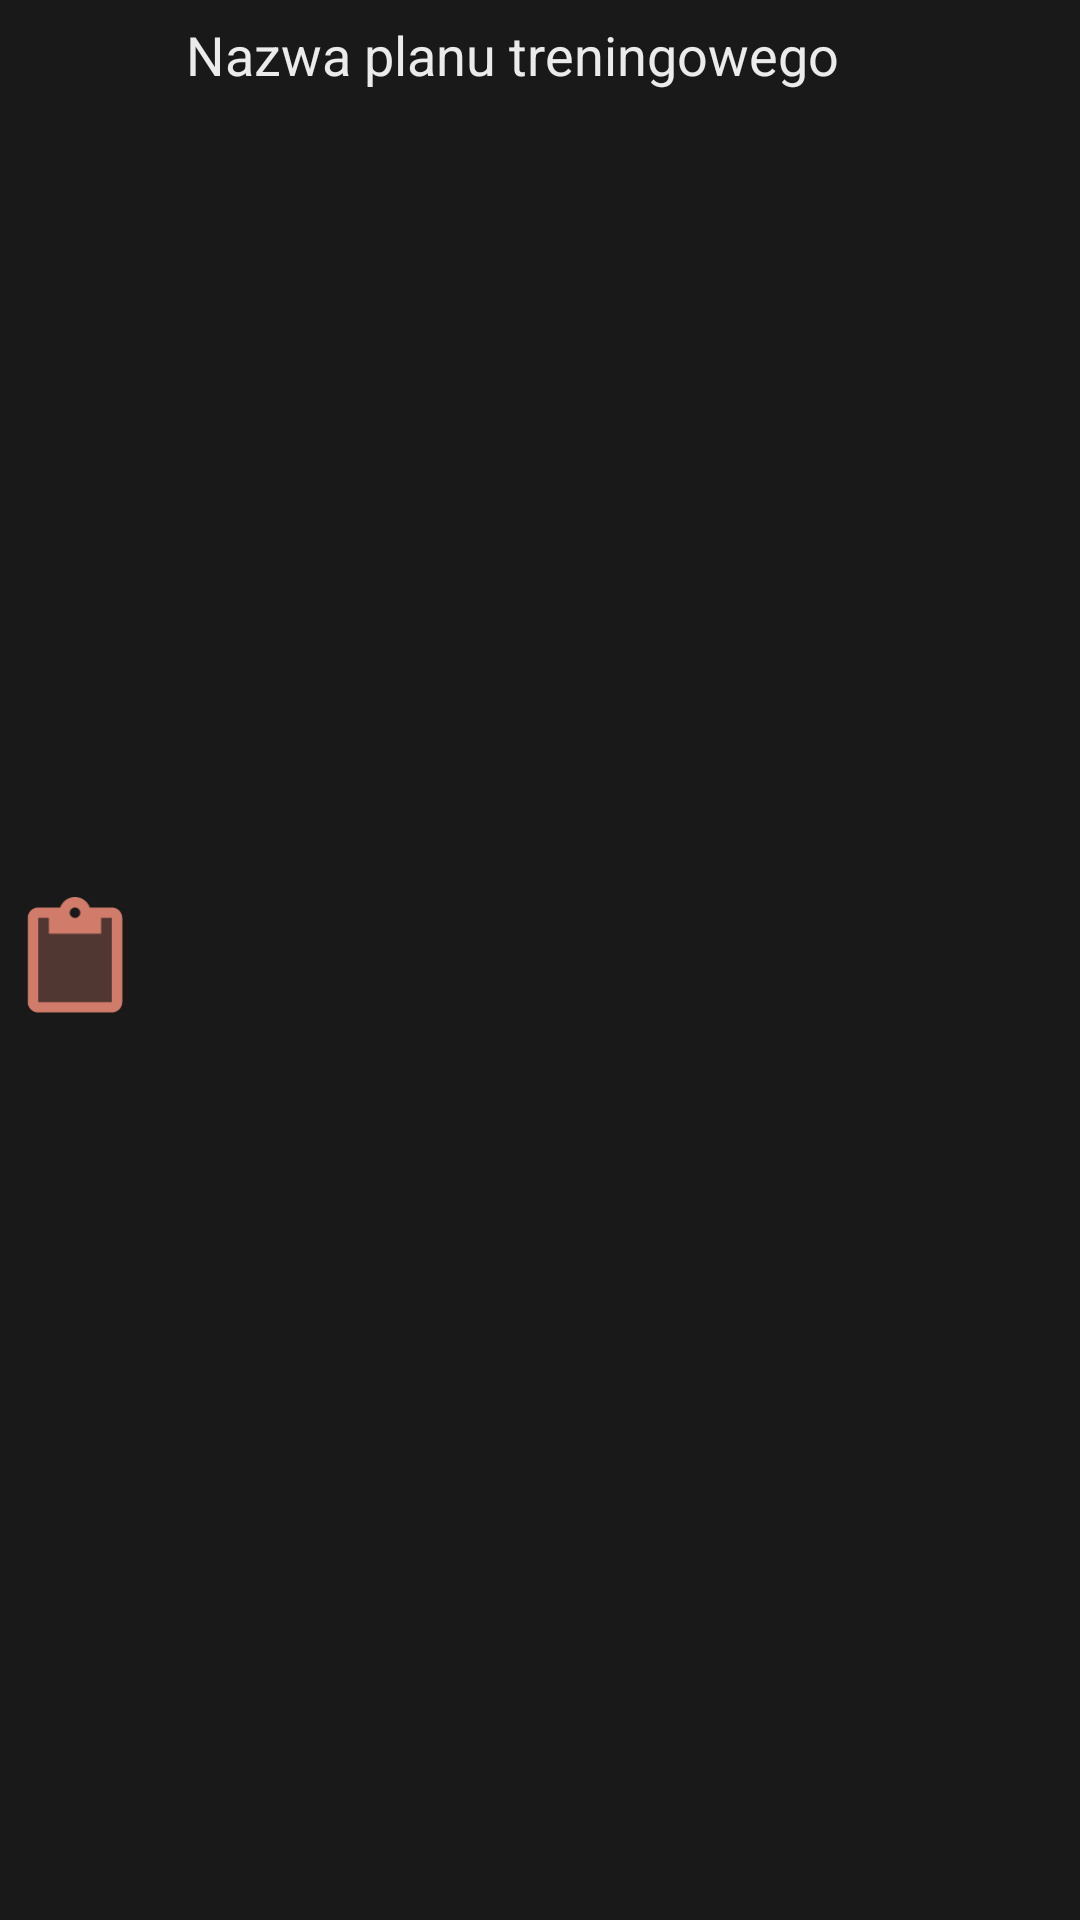

Named icons in this screenshot (1080 × 1920) and their bounding boxes, (x1, y1, x2, y2):
plan: (27, 897, 123, 1013)
